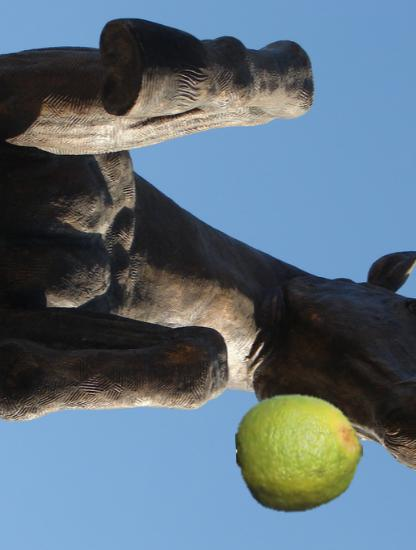Limes: (236, 390, 364, 518)
